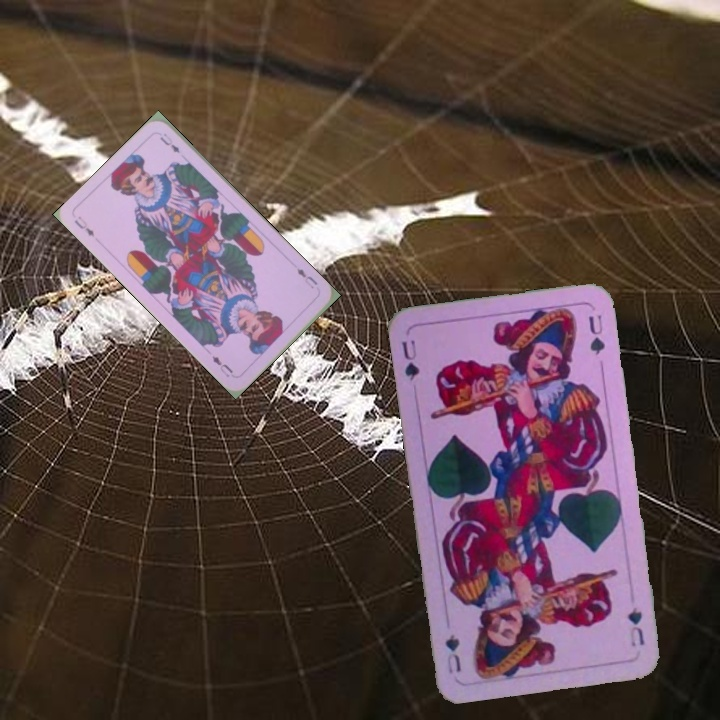EU: (293, 264, 320, 292), (70, 212, 97, 239)
GU: (397, 336, 423, 384), (623, 603, 647, 650)
